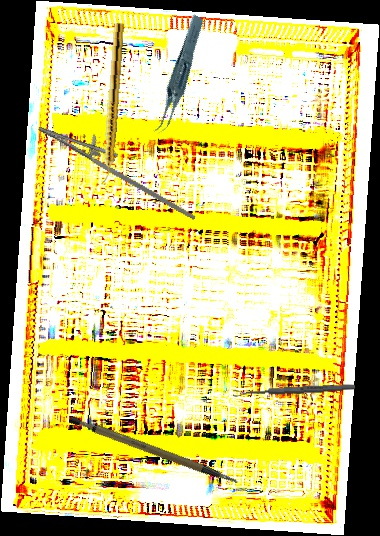Handpiece: (99, 22, 125, 185)
Needle Holder: (28, 112, 211, 222)
Scalpel Handle: (66, 393, 241, 511)
Surgical Spoon: (232, 382, 356, 398)
Tissue Forceps: (129, 13, 226, 137)
